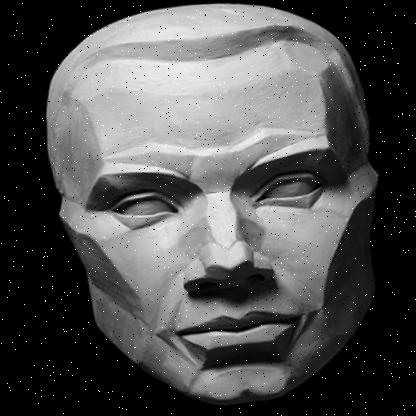person: (17, 0, 416, 416)
